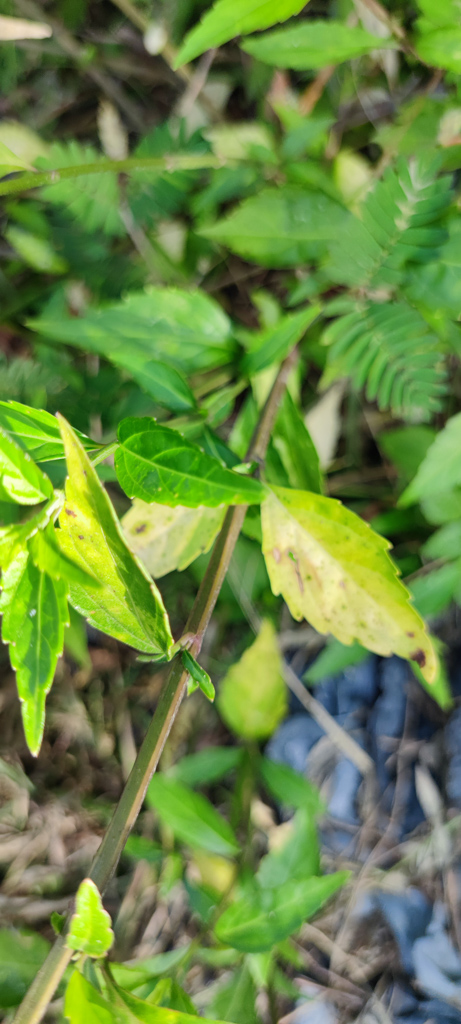Pepper yellow leaf: (260, 483, 446, 682), (51, 408, 172, 670), (215, 635, 289, 729), (61, 876, 125, 961)
